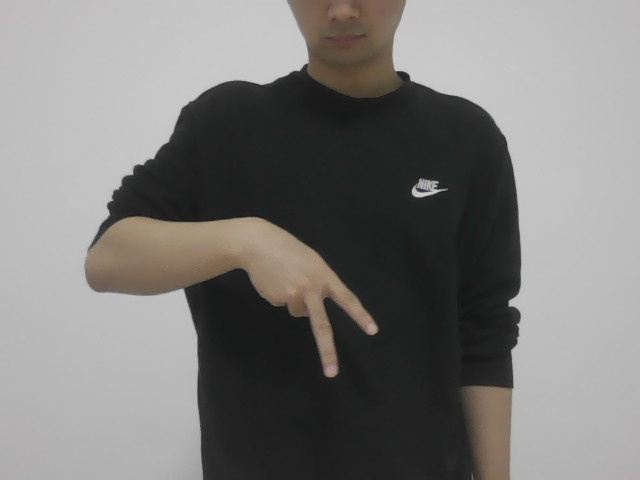walk: (242, 205, 384, 385)
